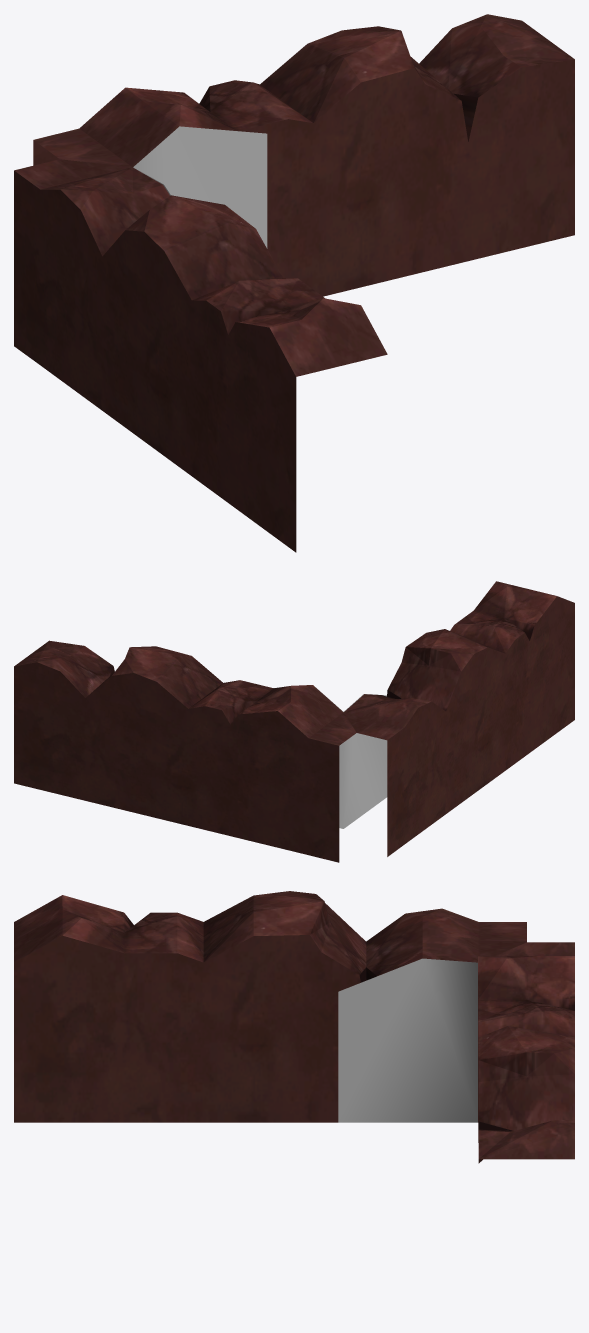
Rendered from lava_broken_concave_01.fbx.
3 views of the same model, one above another, from view 1: azimuth 30°, elevation 25°; view 2: azimuth 150°, elevation 25°; view 3: azimuth 270°, elevation 25° (orthographic). The views are drawn at different scales.
Parts seen in each view (by area): view 1: lava_broken_concave_01-0; view 2: lava_broken_concave_01-0; view 3: lava_broken_concave_01-0.
Boxes of the visible parts, left/top/right/bottom form: lava_broken_concave_01-0: left=14, top=14, right=574, bottom=552; lava_broken_concave_01-0: left=14, top=581, right=574, bottom=862; lava_broken_concave_01-0: left=14, top=891, right=574, bottom=1163.
Bounding box in the file's own units: 4.38 × 1.73 × 4.38.
